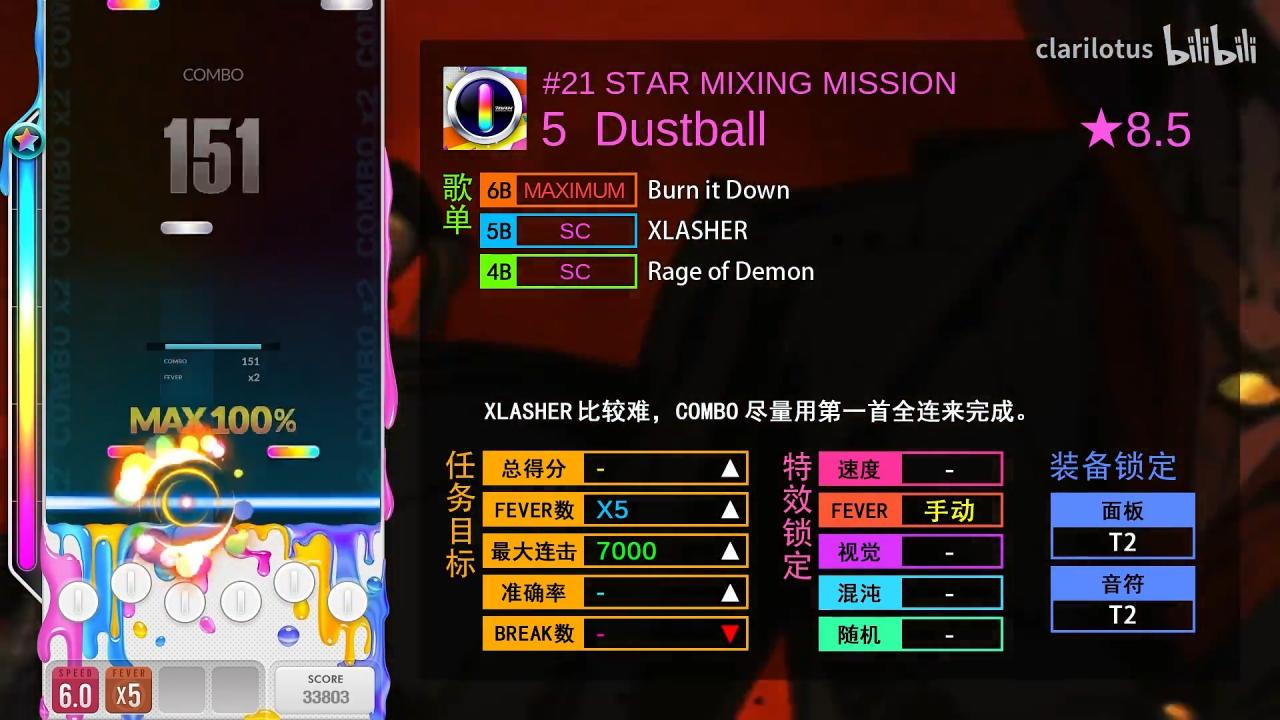note: (266, 444, 321, 459), (160, 221, 212, 235), (106, 445, 160, 458), (321, 0, 373, 10), (106, 0, 160, 9)
